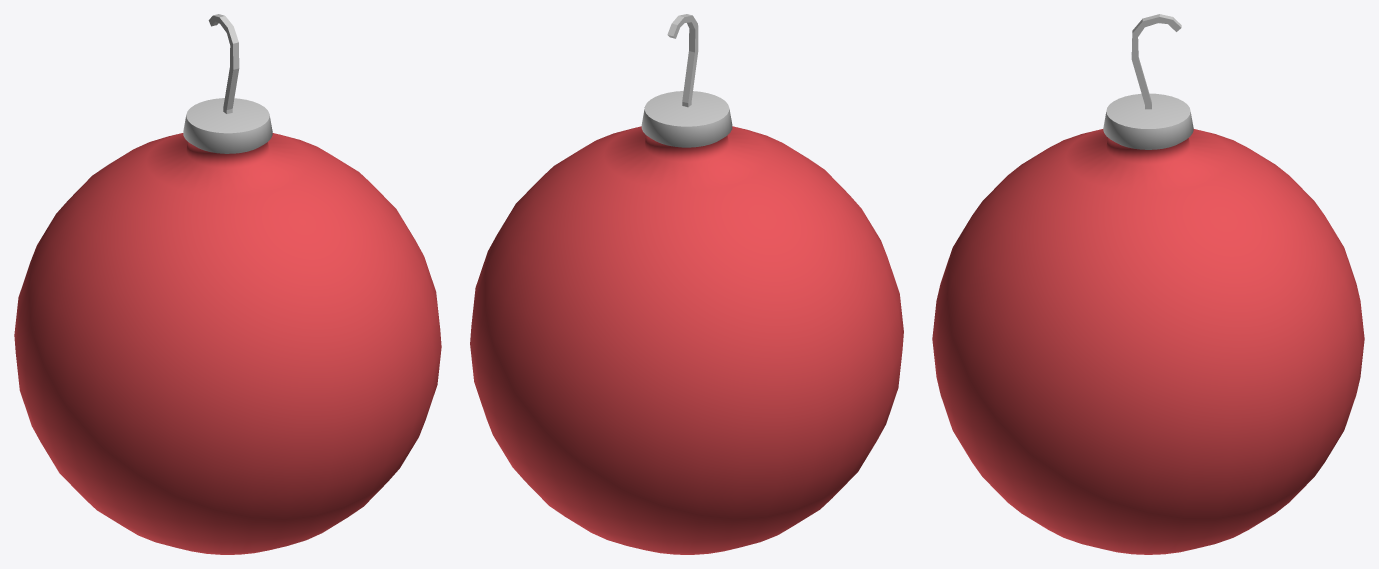
File: ornament-red.fbx
The picture shows the model from 3 angles, left to right: view 1: azimuth 30°, elevation 25°; view 2: azimuth 150°, elevation 25°; view 3: azimuth 270°, elevation 25°; orthographic projection.
Parts seen in each view (by area): view 1: Sphere; view 2: Sphere; view 3: Sphere.
Boxes of the visible parts, bbox=[...] form: Sphere: bbox=[14, 14, 441, 554]; Sphere: bbox=[470, 14, 903, 554]; Sphere: bbox=[932, 14, 1364, 554].
Bounding box in the file's own units: 21.15 × 28.04 × 21.15.
